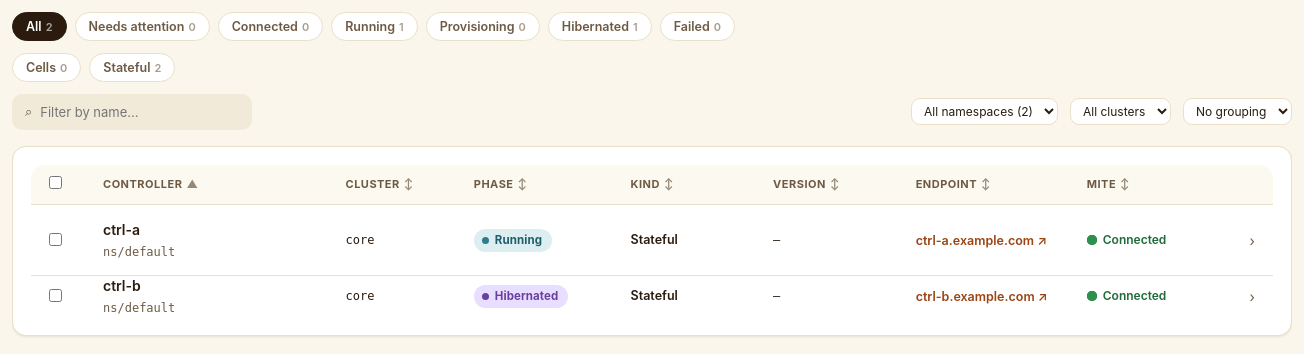
Scenario: BroodControllerPicker › Hibernated filter chip (#438) › adds a Hibernated chip that filters to hibernated controllers
This screenshot has width=1304, height=354.
Step 1. Click the button "Hibernated 1" → (600, 26), box [548,12,652,41]
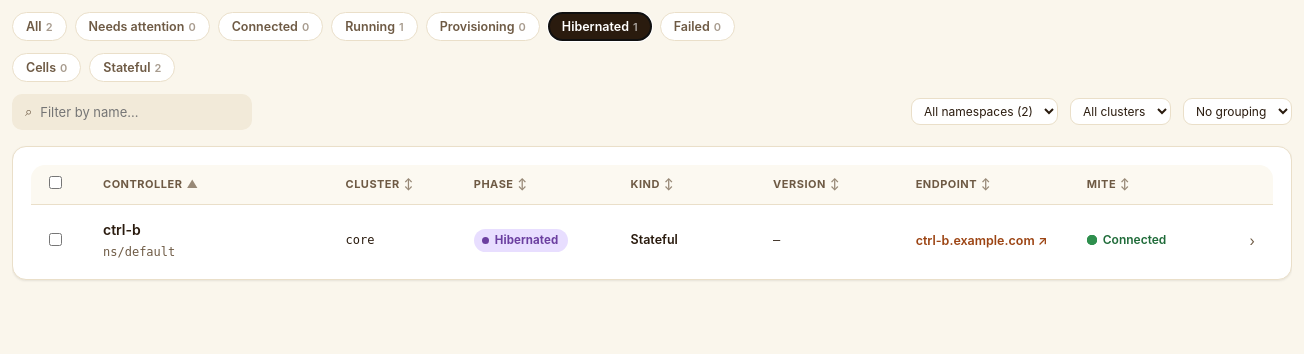
Expected: the text "ctrl-b" is shown, [103,221,141,238]
Result: the button "ctrl-a" is gone
